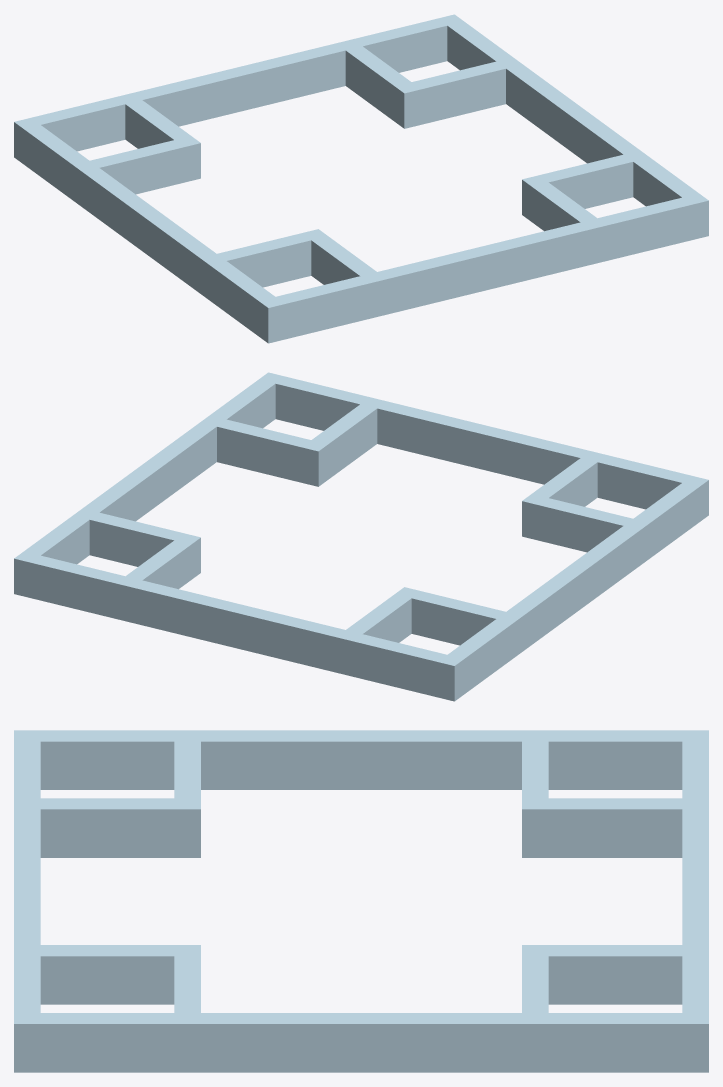
The model's file is 1323 - Drivebase.gltf.
The picture shows the model from 3 angles, top to bottom: view 1: azimuth 30°, elevation 25°; view 2: azimuth 150°, elevation 25°; view 3: azimuth 270°, elevation 25°; orthographic projection. The views are drawn at different scales.
Parts seen in each view (by area): view 1: Drivebase; view 2: Drivebase; view 3: Drivebase.
Part boxes in pixels (box(x1,y1,x2,y2)): Drivebase: box(14, 14, 708, 343); Drivebase: box(14, 372, 708, 701); Drivebase: box(14, 730, 708, 1072).
Size of the model in its own units: 0.6604 by 0.0508 by 0.6604.
